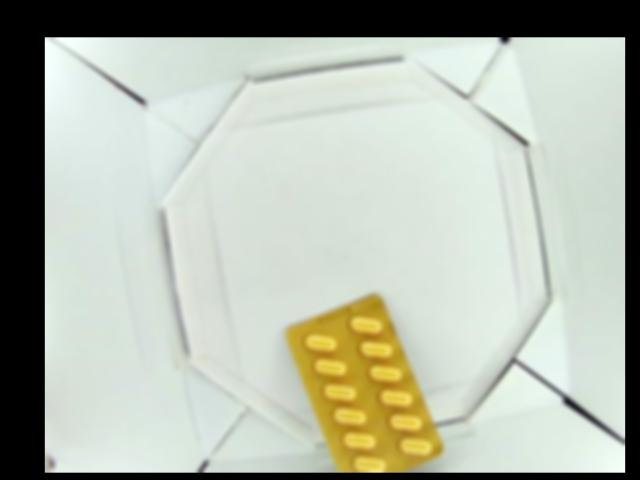Medicine: (283, 295, 443, 472)
